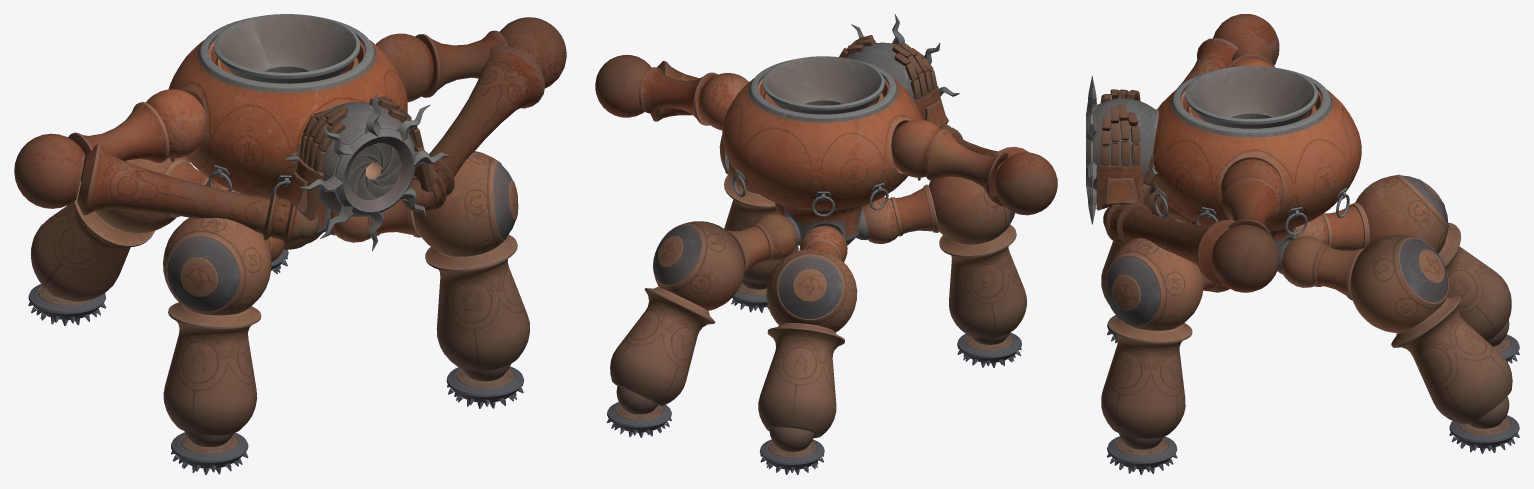
The model's file is Walker.glb.
3 renders of one model, left to right at view 1: azimuth 30°, elevation 25°; view 2: azimuth 150°, elevation 25°; view 3: azimuth 270°, elevation 25°, orthographic. The views are drawn at different scales.
Visible parts, largest first — view 1: models\npc\boss_tier_02_sun_walker_v2\boss_tier_02_sun_walke; view 2: models\npc\boss_tier_02_sun_walker_v2\boss_tier_02_sun_walke; view 3: models\npc\boss_tier_02_sun_walker_v2\boss_tier_02_sun_walke.
Boxes of the visible parts, x1,y1,x2,y2 form: models\npc\boss_tier_02_sun_walker_v2\boss_tier_02_sun_walke: (14, 14, 566, 474); models\npc\boss_tier_02_sun_walker_v2\boss_tier_02_sun_walke: (595, 14, 1057, 474); models\npc\boss_tier_02_sun_walker_v2\boss_tier_02_sun_walke: (1086, 14, 1519, 474).
Size of the model in its own units: 14.34 by 9.07 by 10.98.
1 material, 1 textured.
